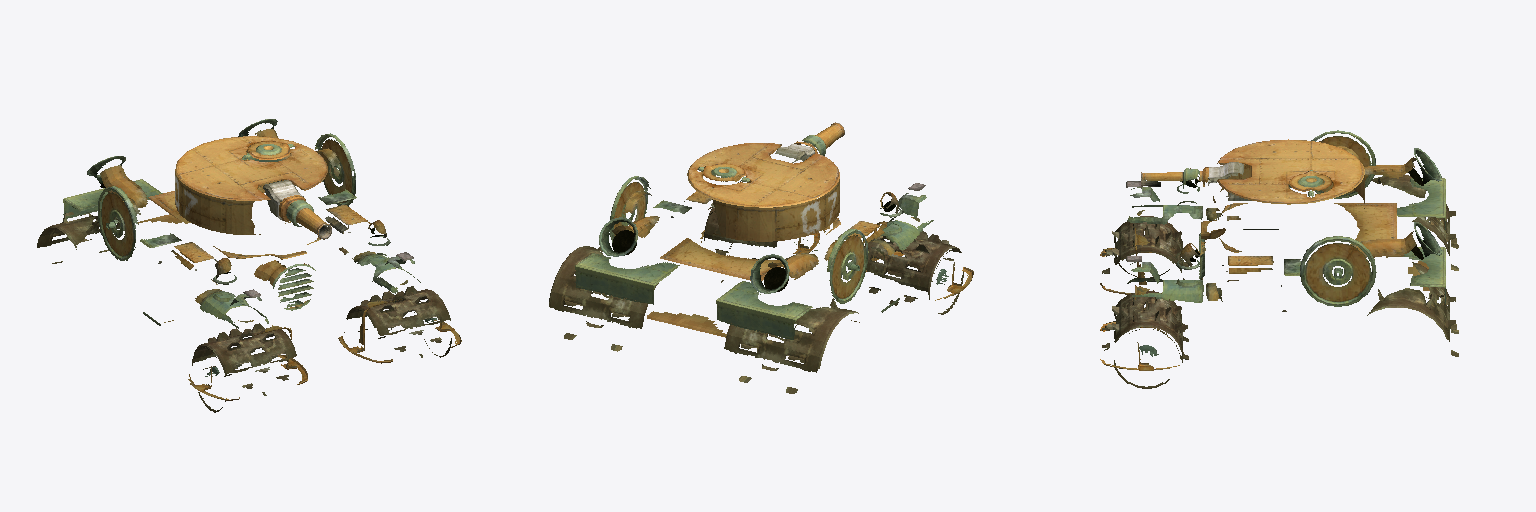
3 renders of one model, left to right at view 1: azimuth 30°, elevation 25°; view 2: azimuth 150°, elevation 25°; view 3: azimuth 270°, elevation 25°, orthographic.
Visible parts, largest first — view 1: turret_geo, r_engine_geo, l_engine_geo, r_front_wheel_geo, l_front_wheel_geo, tank_geo, canon_geo, r_back_wheel_geo, l_steer_geo, hatch_geo, r_steer_geo; view 2: turret_geo, r_engine_geo, l_engine_geo, r_back_wheel_geo, l_back_wheel_geo, r_front_wheel_geo, tank_geo, canon_geo, l_front_wheel_geo, hatch_geo; view 3: l_engine_geo, turret_geo, r_engine_geo, l_front_wheel_geo, tank_geo, r_front_wheel_geo, l_back_wheel_geo, r_back_wheel_geo, canon_geo, hatch_geo.
Part boxes in pixels (x1,y1,x2,y2): turret_geo: (175,136,327,234); r_engine_geo: (63,156,268,328); l_engine_geo: (238,119,420,293); r_front_wheel_geo: (192,323,296,412); l_front_wheel_geo: (346,286,451,357); tank_geo: (138,185,320,325); canon_geo: (263,180,331,239); r_back_wheel_geo: (37,203,147,263); l_steer_geo: (338,280,461,363); hatch_geo: (246,141,290,159); r_steer_geo: (188,320,307,400); turret_geo: (687,143,839,241); r_engine_geo: (716,183,933,339); l_engine_geo: (575,176,741,304); r_back_wheel_geo: (724,298,858,393); l_back_wheel_geo: (549,246,658,351); r_front_wheel_geo: (864,231,963,314); tank_geo: (647,218,899,337); canon_geo: (775,122,844,162); l_front_wheel_geo: (704,207,777,259); hatch_geo: (703,164,745,181); l_engine_geo: (1126,222,1445,306); turret_geo: (1213,139,1364,208); r_engine_geo: (1126,130,1445,229); l_front_wheel_geo: (1102,291,1188,388); tank_geo: (1199,203,1429,311); r_front_wheel_geo: (1102,216,1188,279); l_back_wheel_geo: (1367,262,1458,356); r_back_wheel_geo: (1371,175,1458,270); canon_geo: (1141,162,1243,188); hatch_geo: (1289,171,1331,191).
Bounding box in the file's own units: 239 × 152 × 275.
2 materials, 2 textured.